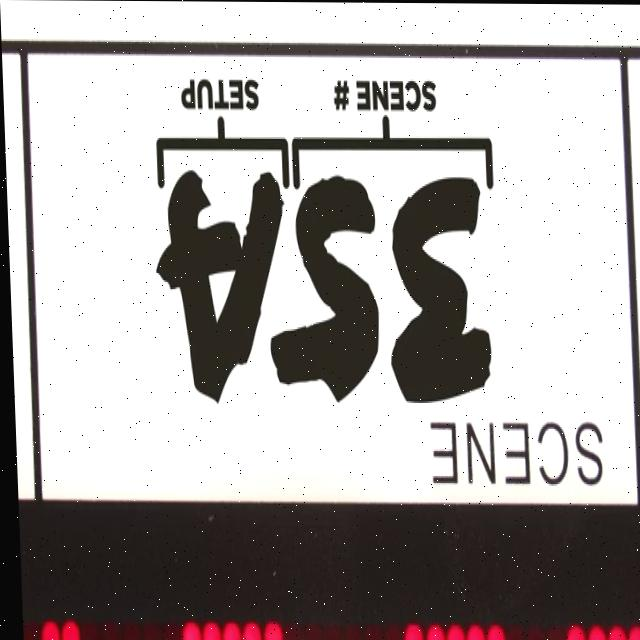Clapperboard: (1, 2, 640, 640)
